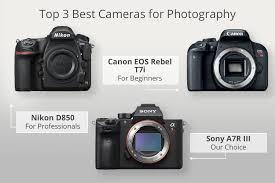camera: (94, 108, 182, 168), (186, 28, 267, 91), (14, 31, 92, 90)
